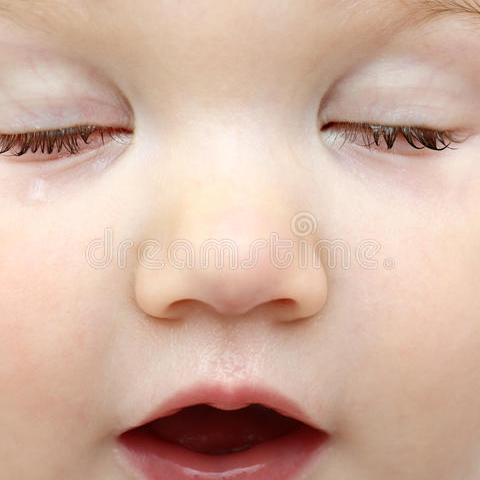closed: (0, 0, 480, 190)
